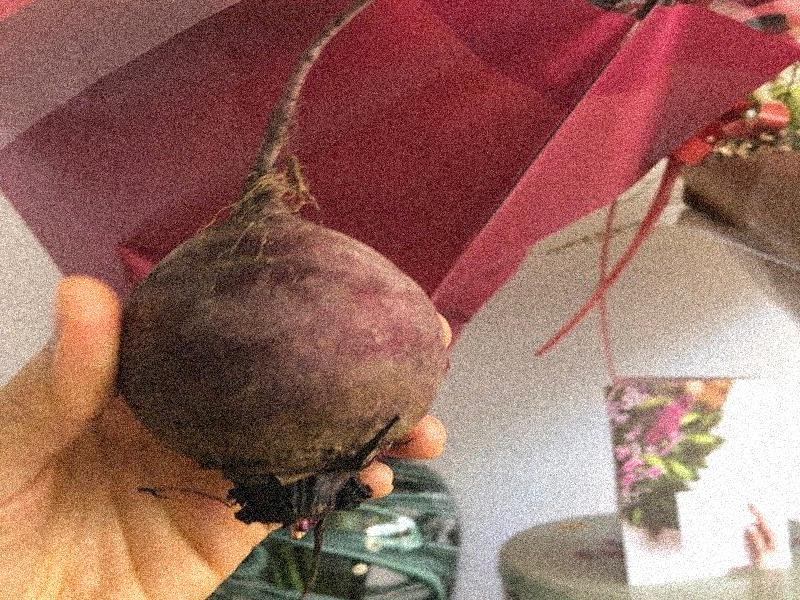Beet: (117, 2, 448, 595)
